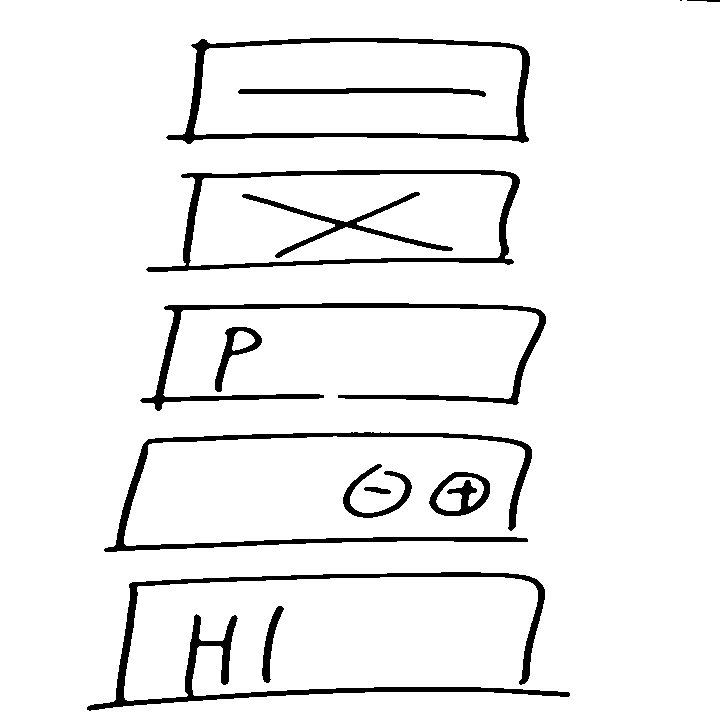button: (161, 34, 543, 154)
heading1: (89, 566, 581, 708)
inline stepper bar: (95, 429, 540, 553)
paragraph: (139, 295, 555, 412)
picture: (143, 168, 533, 279)
